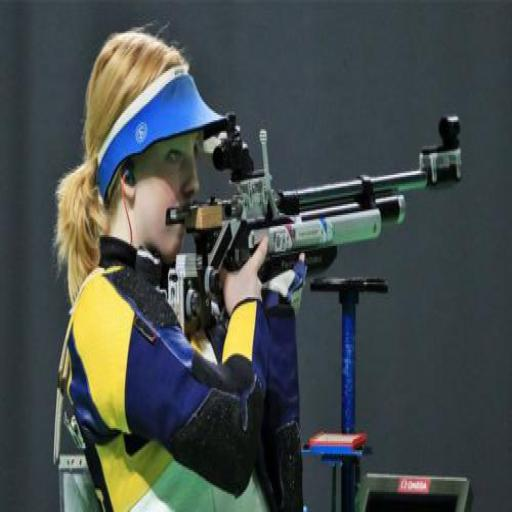shooting: (52, 28, 310, 510)
